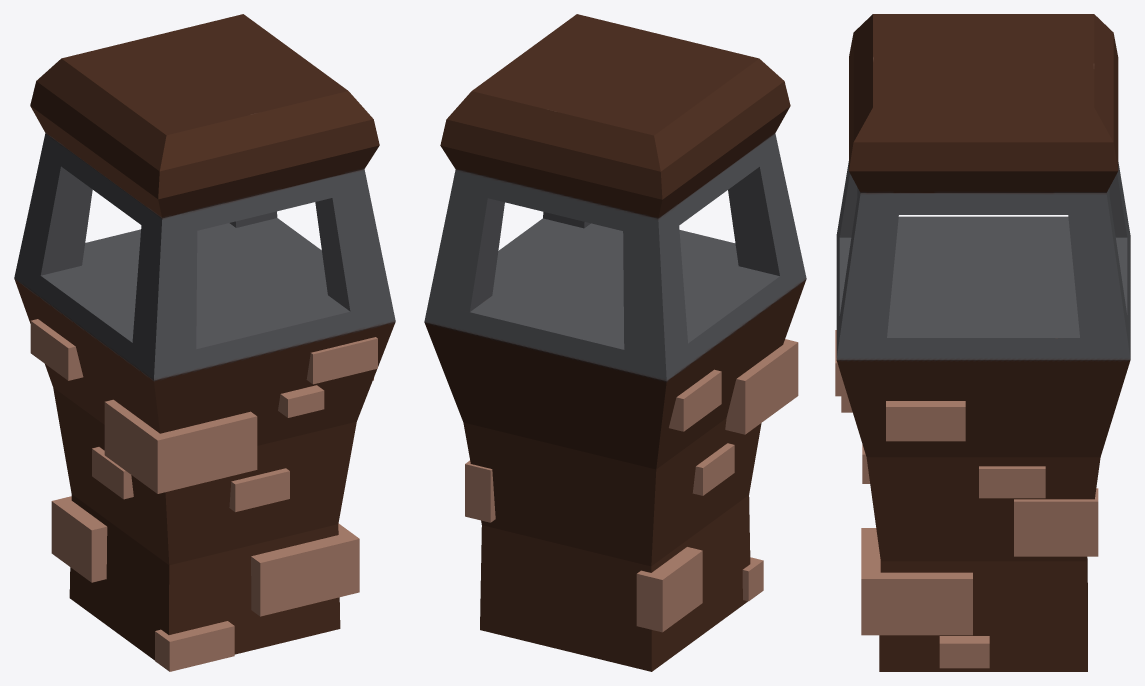
The model's file is cheminee.FBX.
The picture shows the model from 3 angles, left to right: view 1: azimuth 30°, elevation 25°; view 2: azimuth 150°, elevation 25°; view 3: azimuth 270°, elevation 25°; orthographic projection. The views are drawn at different scales.
Visible parts, largest first — view 1: cheminée; view 2: cheminée; view 3: cheminée.
Part boxes in pixels (<box>): cheminée: <box>14,14,395,671</box>; cheminée: <box>424,14,806,671</box>; cheminée: <box>835,14,1130,671</box>.
Bounding box in the file's own units: 56.82 × 120 × 56.62.
Materials: 1 (1 with a texture image).
